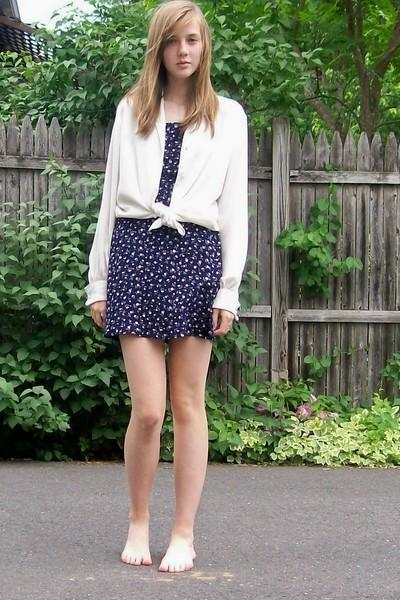dress: (104, 117, 223, 340)
shirt: (84, 95, 247, 315)
